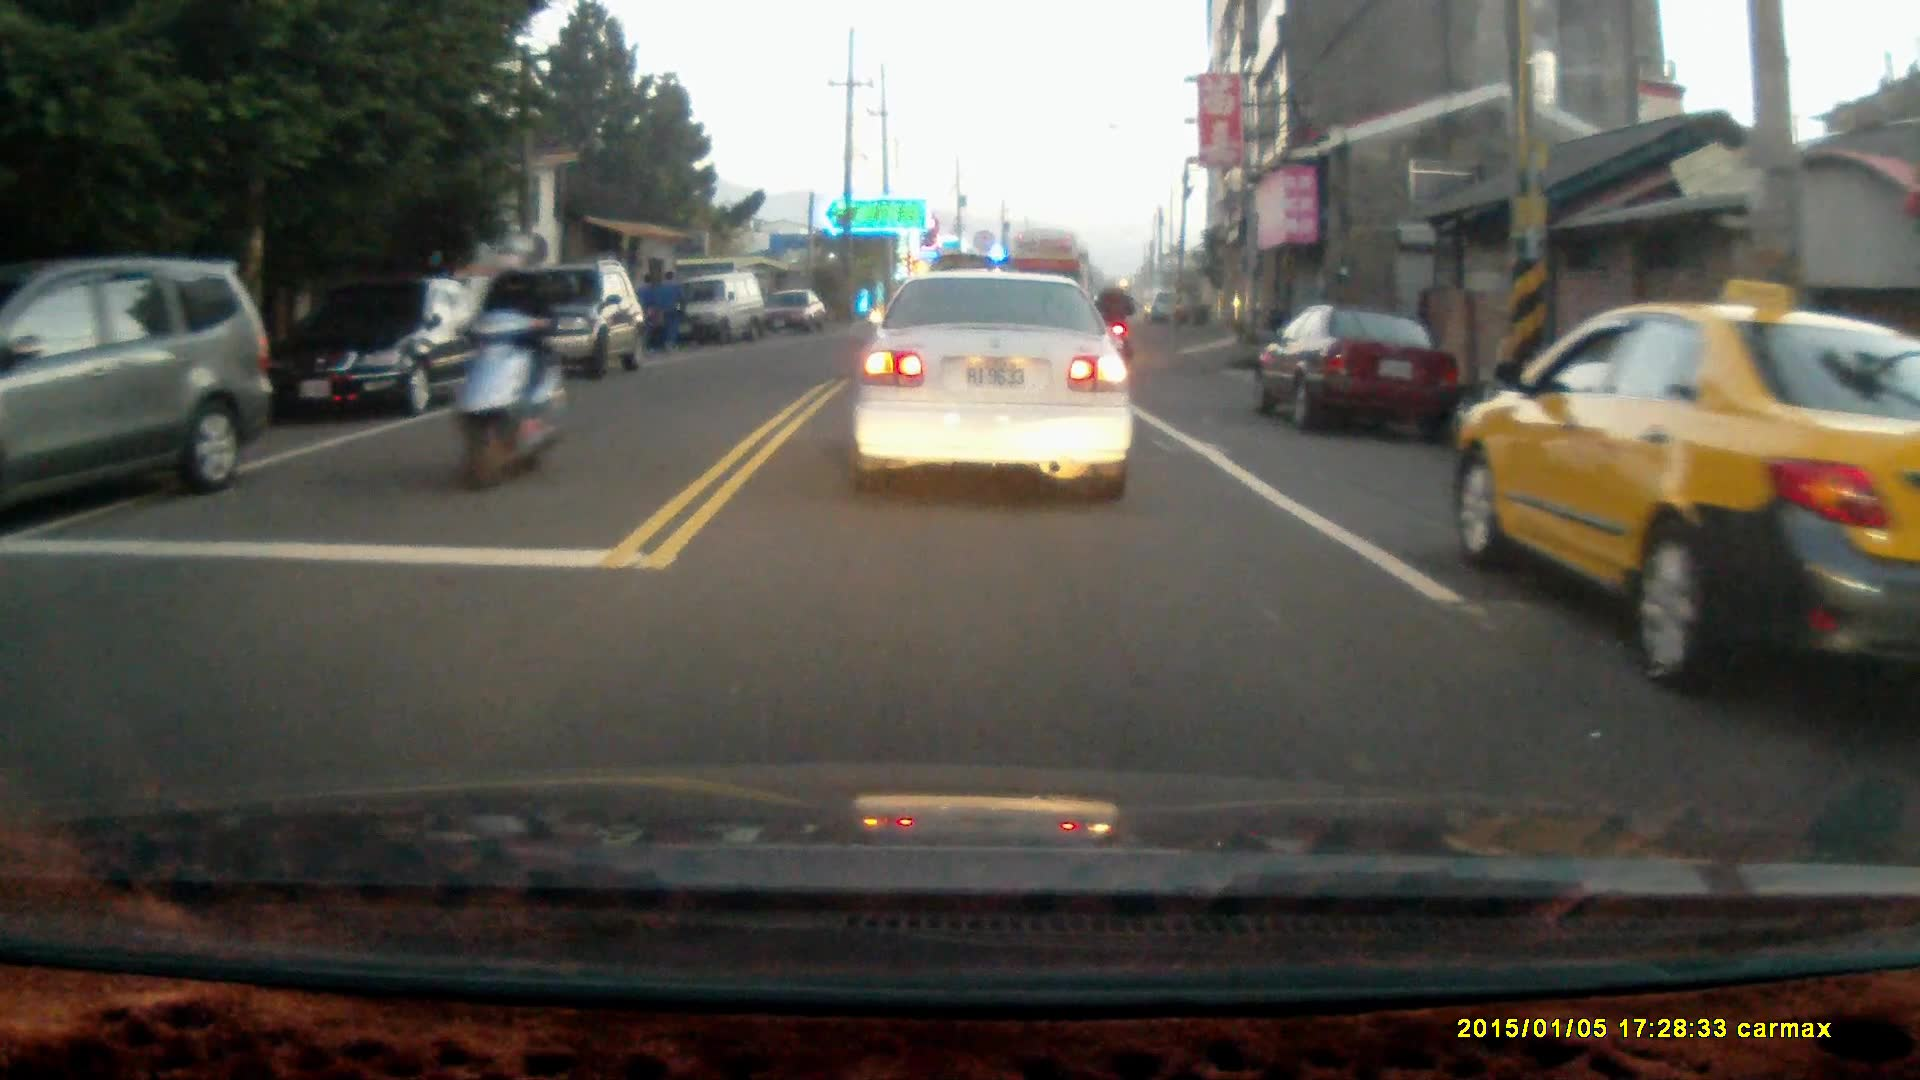pedestrian: (654, 267, 681, 352), (633, 268, 659, 349)
rider: (445, 229, 575, 492), (1085, 275, 1134, 381)
vehicle: (1452, 302, 1920, 701), (1, 261, 279, 527), (852, 270, 1131, 506), (267, 275, 515, 418), (1254, 303, 1463, 434), (484, 259, 651, 384), (660, 274, 766, 348), (748, 289, 828, 341)
